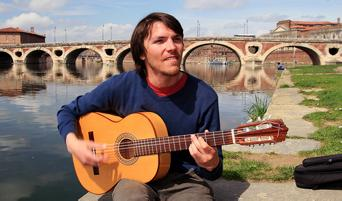person: (57, 13, 225, 200)
